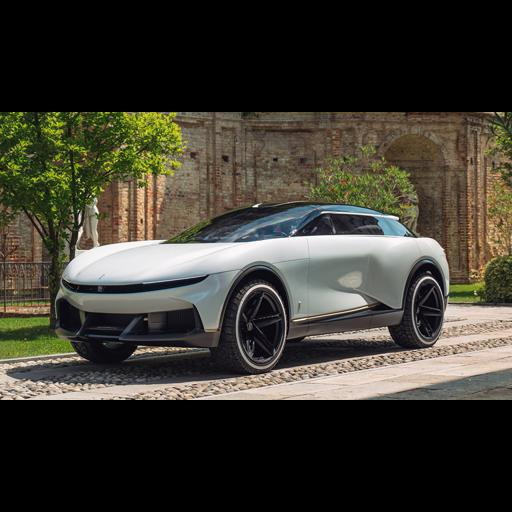suv: (57, 201, 448, 373)
